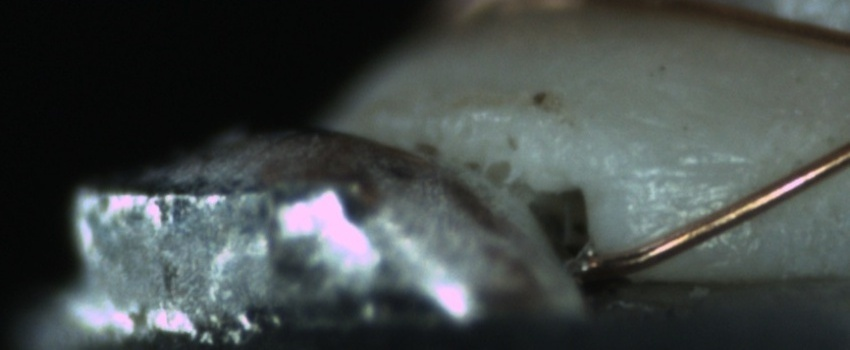DL: (629, 140, 759, 205)
